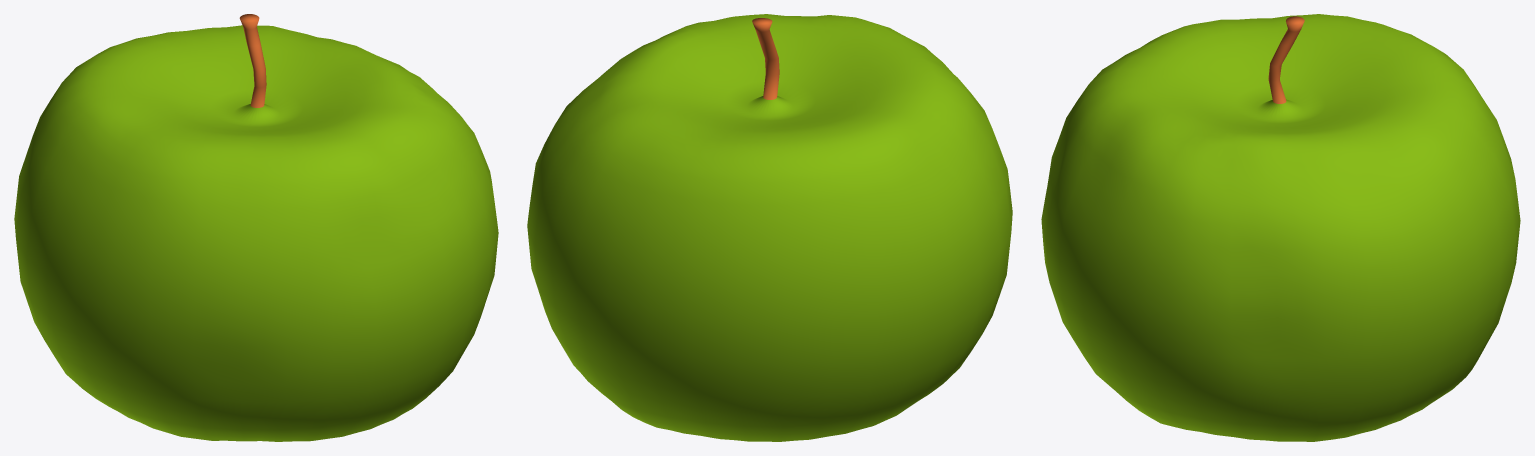
Rendered from яблочко.fbx.
3 views of the same model, side by side, from view 1: azimuth 30°, elevation 25°; view 2: azimuth 150°, elevation 25°; view 3: azimuth 270°, elevation 25° (orthographic).
Parts seen in each view (by area): view 1: Sphere; view 2: Sphere; view 3: Sphere.
Boxes of the visible parts, bbox=[...] form: Sphere: bbox=[14, 14, 498, 441]; Sphere: bbox=[527, 14, 1012, 441]; Sphere: bbox=[1041, 14, 1520, 441].
Bounding box in the file's own units: 196 × 174 × 199.
